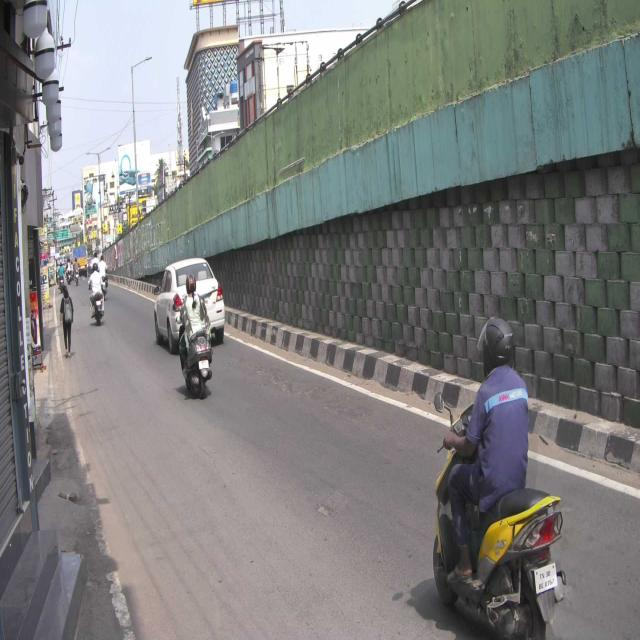single_rider: (432, 314, 564, 640), (177, 272, 214, 400)
